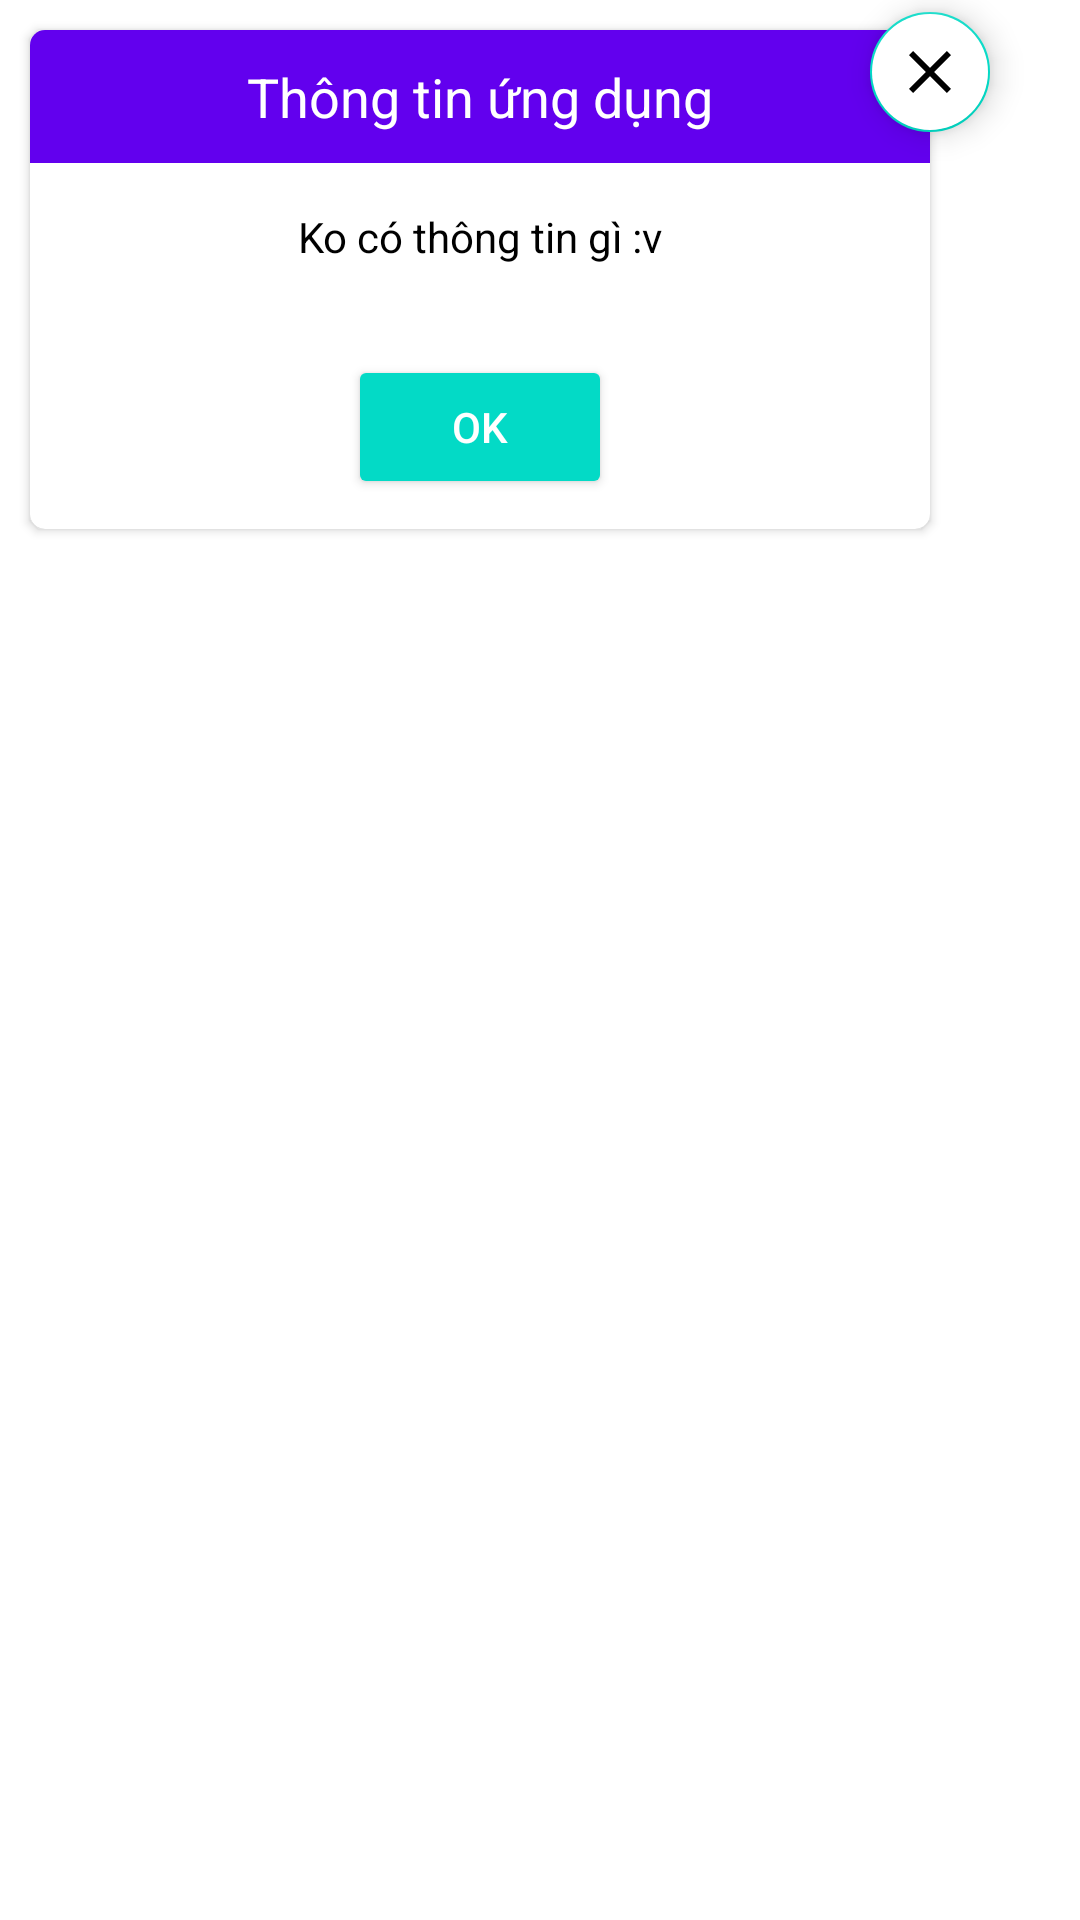

Named icons in this screenshot (1080w x 1920h) and their centers, (x,y):
close: (930,72)
